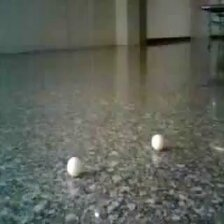w: (66, 157, 84, 176), (151, 134, 165, 150)
